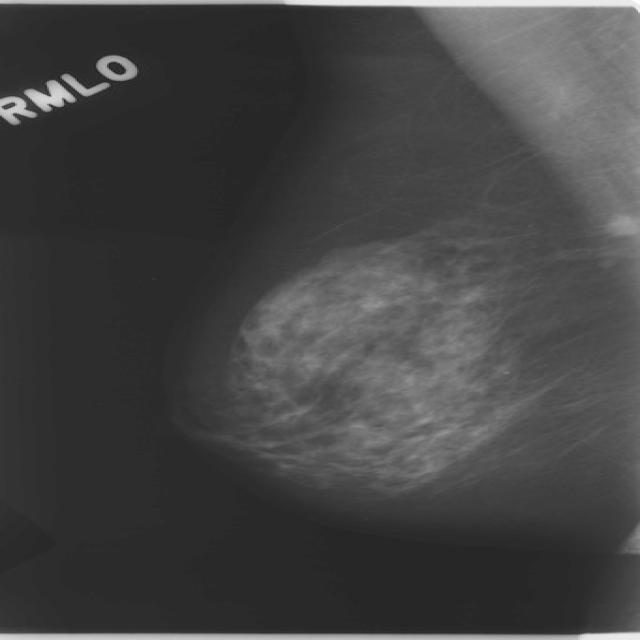tumour: (601, 213, 638, 236)
